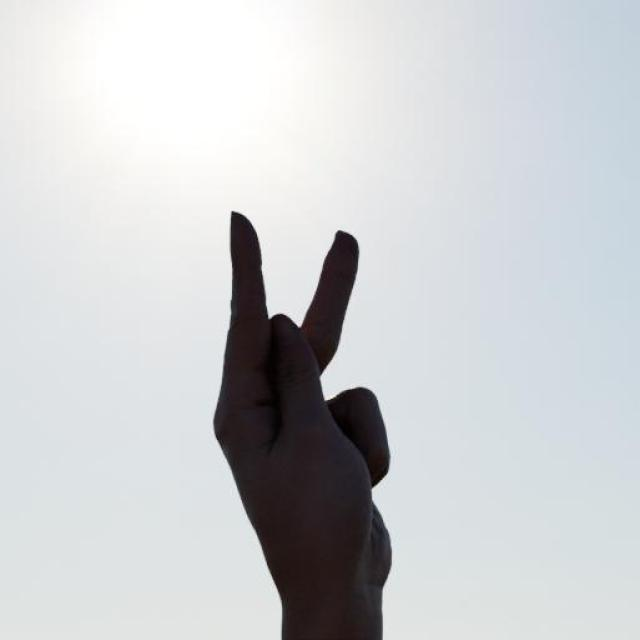K: (212, 208, 398, 598)
